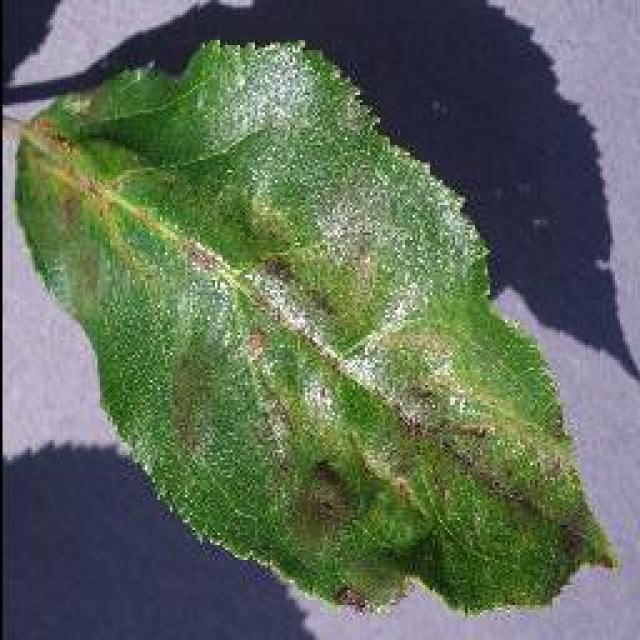apple scab disease: (12, 35, 618, 620)
